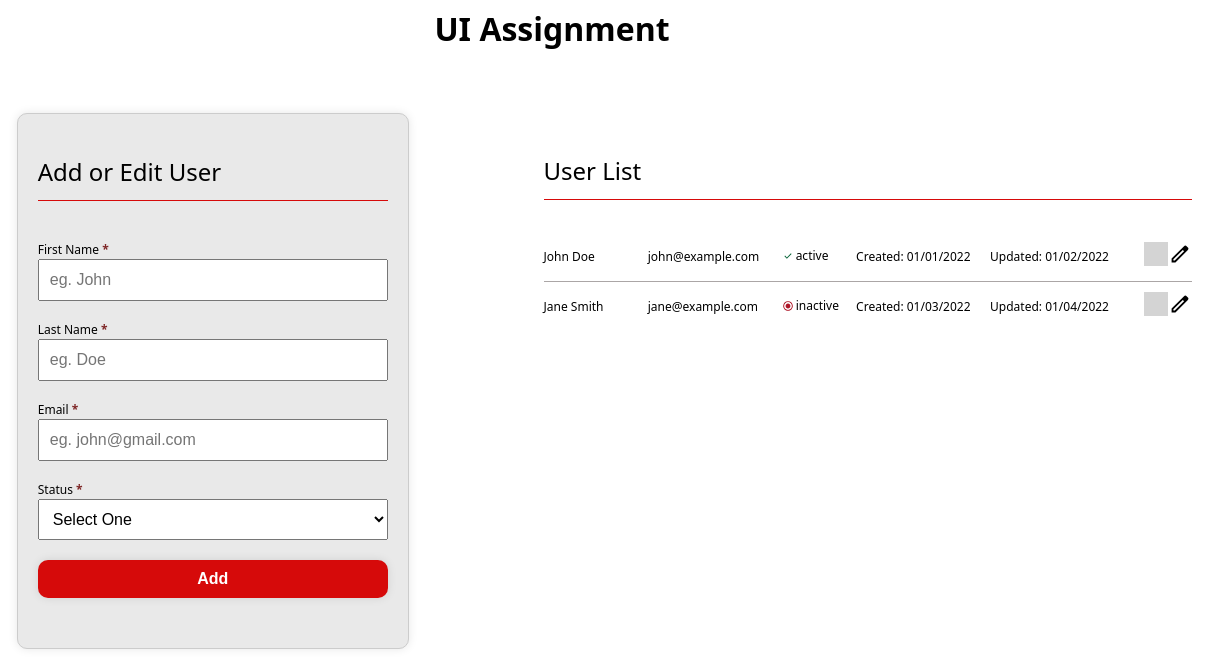
Test: App Component › adds a new user
Check: the text "John Doe" is shown, box [544,248,595,265]
# Fill and submit the form
In the field with placeholder "eg. John": point(213, 280) [38,259,388,301], type "Alice"
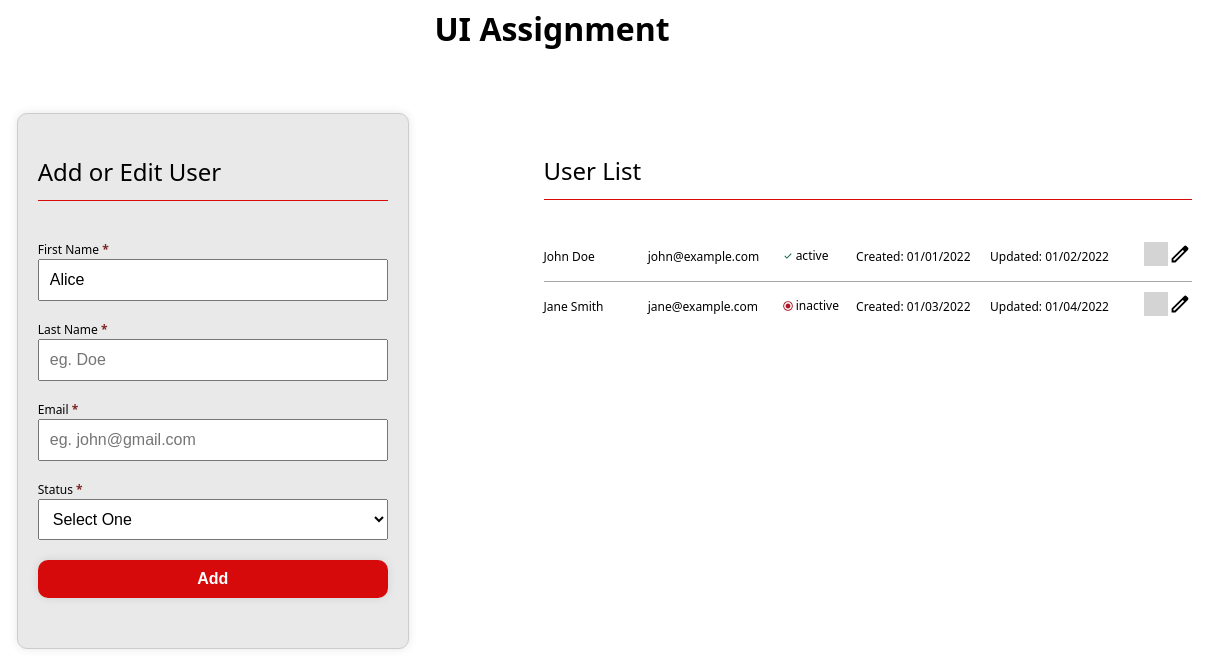
In the field with placeholder "eg. Doe": point(213, 360) [38,339,388,381], type "Johnson"
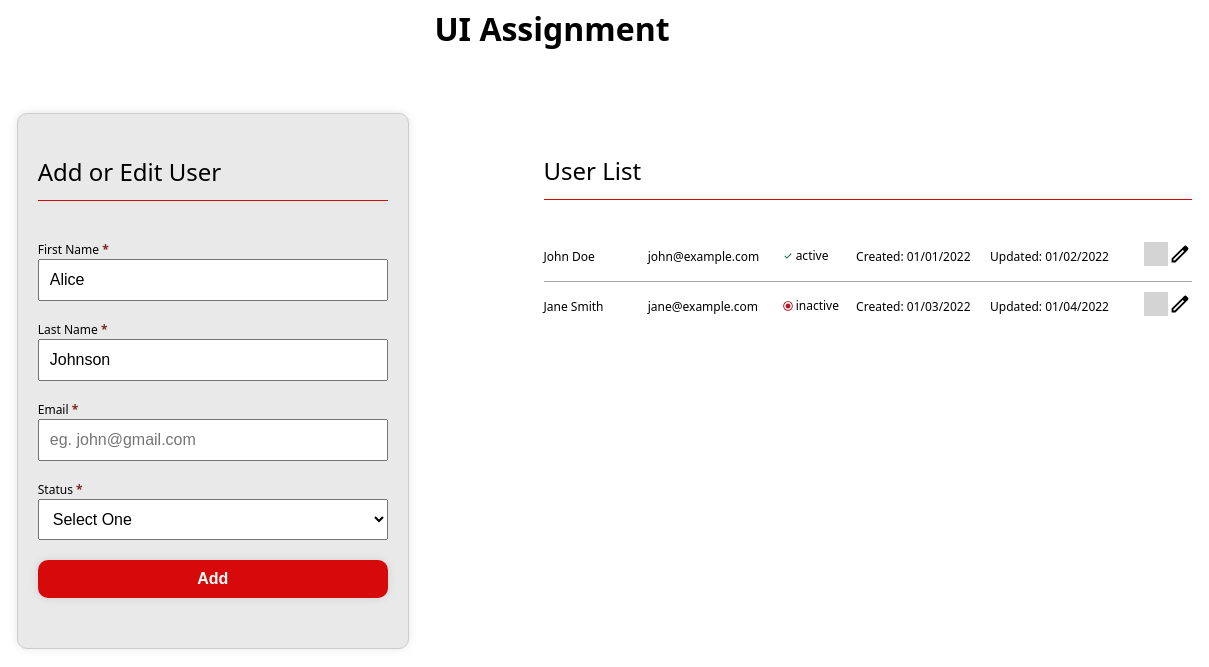
In the field with placeholder "eg. john@gmail.com": point(213, 440) [38,419,388,461], type "alice@example.com"
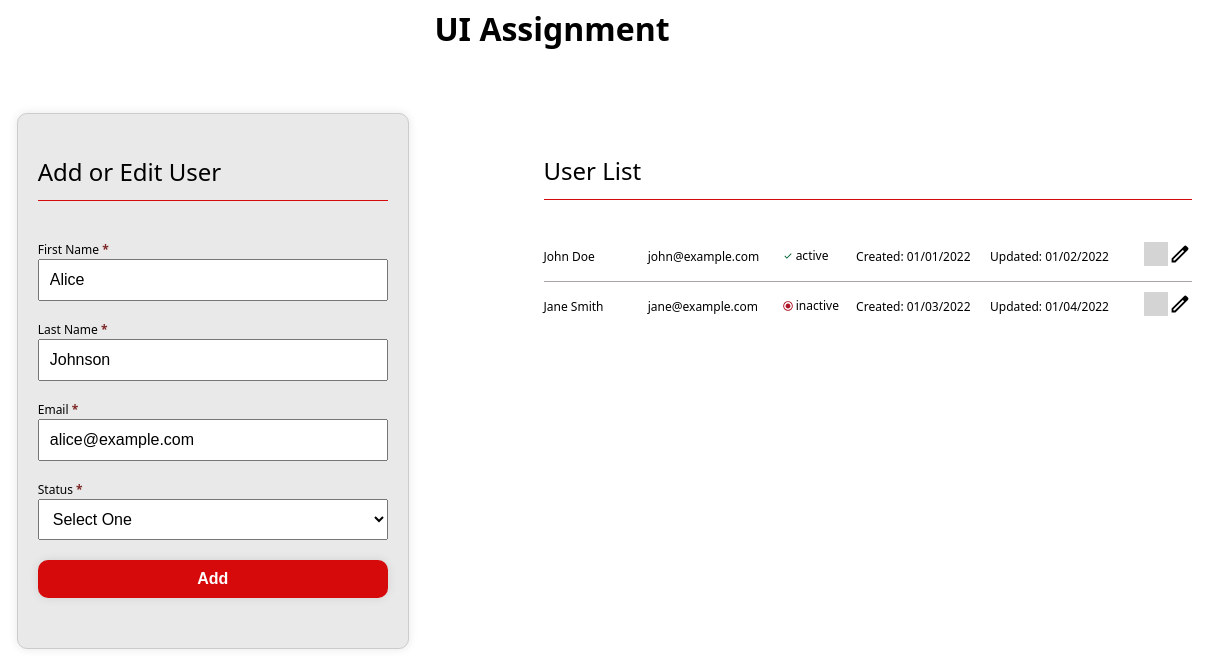
Select "Active" in the dropdown: point(213, 520) [38,499,388,540]
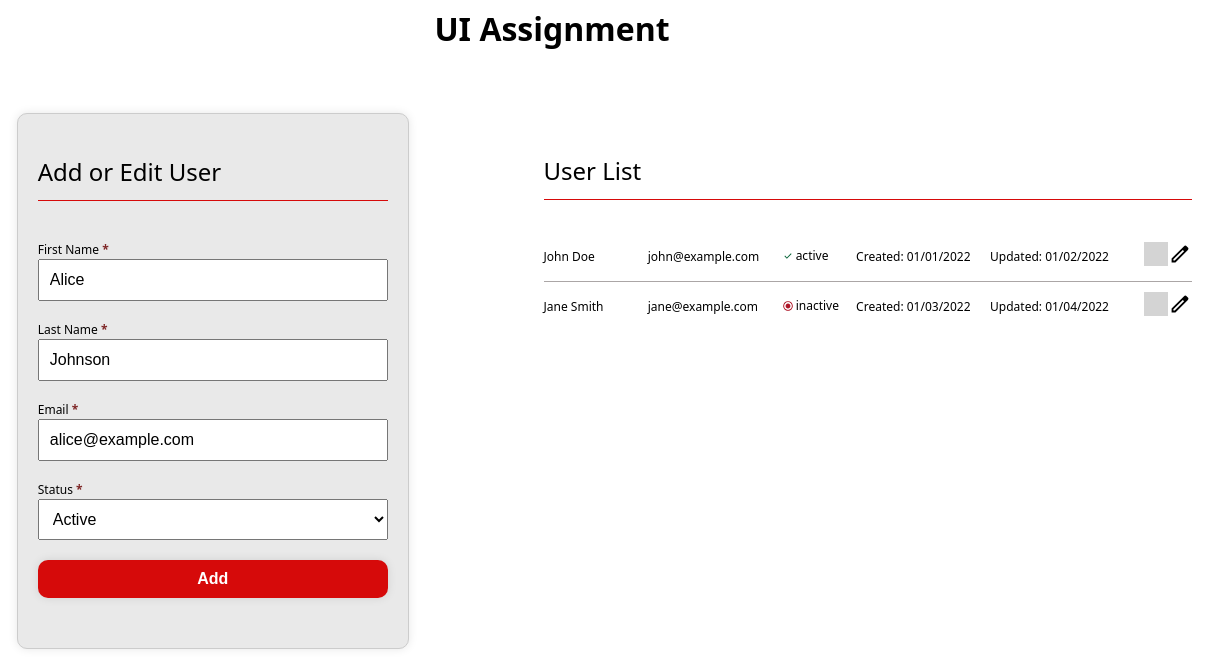
Click the button "Add": point(213, 579) [38,560,388,598]
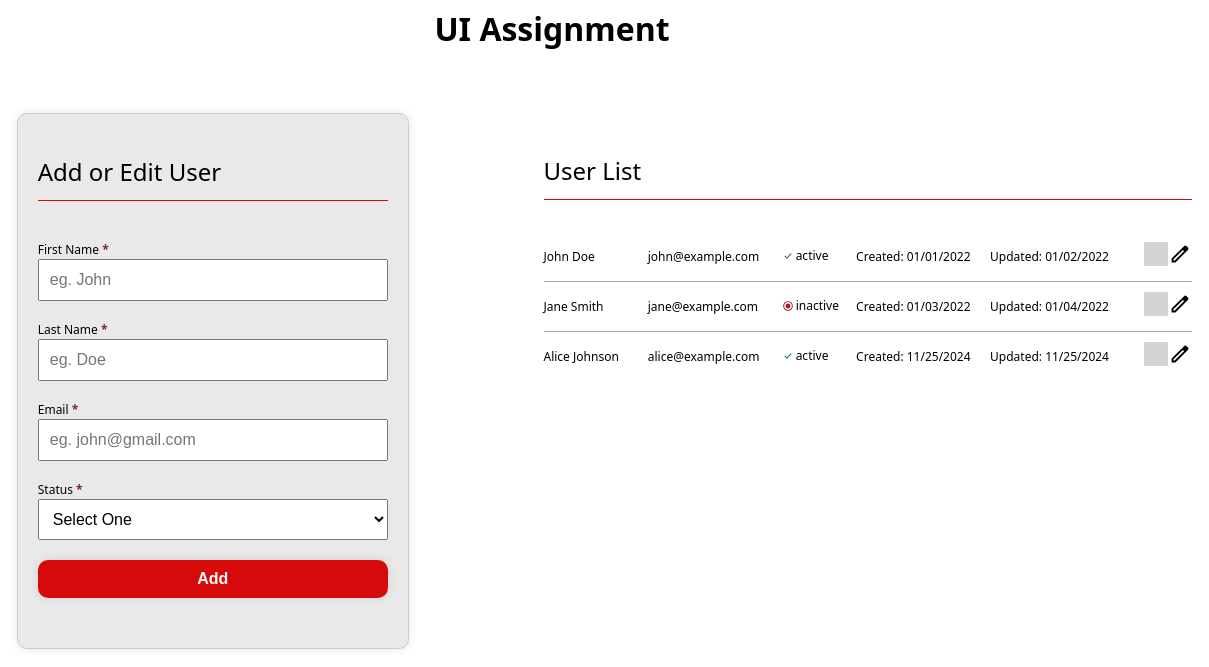
Check: the text "Alice Johnson" is shown, box [544,348,619,365]
